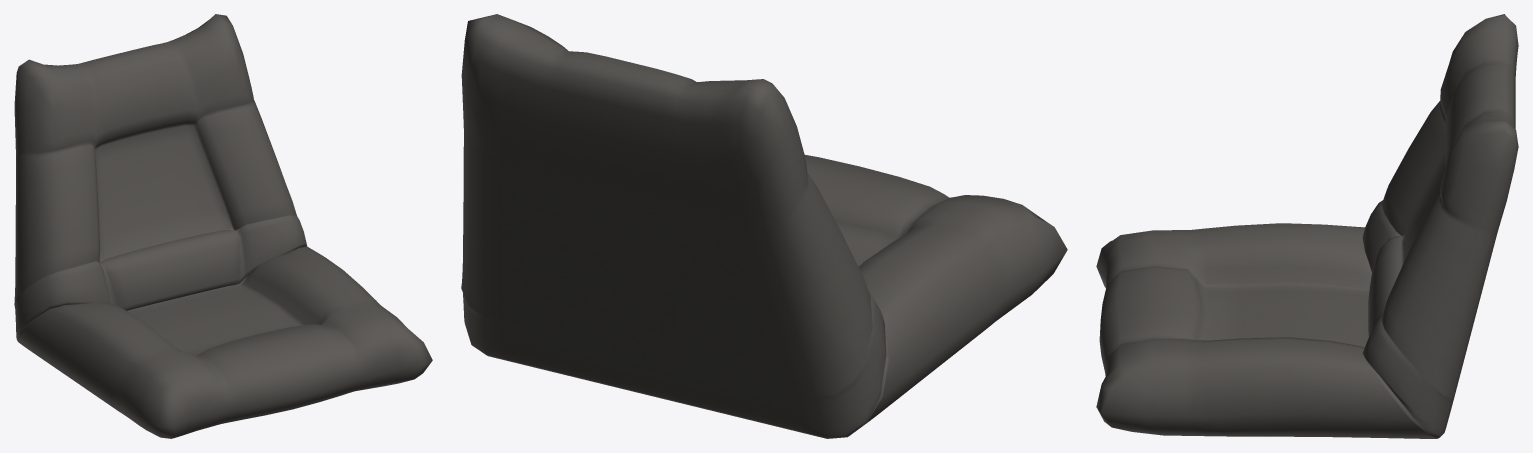
The model's file is chair_14_02.001.fbx.
3 views of the same model, side by side, from view 1: azimuth 30°, elevation 25°; view 2: azimuth 150°, elevation 25°; view 3: azimuth 270°, elevation 25° (orthographic). The views are drawn at different scales.
Visible parts, largest first — view 1: chair_14_02.001; view 2: chair_14_02.001; view 3: chair_14_02.001.
Boxes of the visible parts, <box> form: chair_14_02.001: <box>14,14,432,438</box>; chair_14_02.001: <box>461,14,1067,438</box>; chair_14_02.001: <box>1096,14,1518,438</box>.
Size of the model in its own units: 79.29 by 69.1 by 87.83.
1 material, 1 textured.
